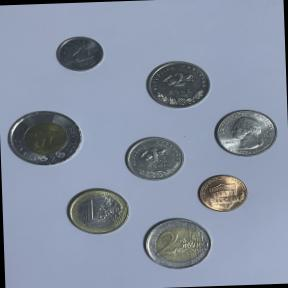coin: (1, 105, 87, 171), (139, 214, 215, 274), (209, 106, 282, 161), (142, 57, 214, 112), (62, 185, 132, 238), (192, 170, 250, 216), (51, 33, 108, 76)
